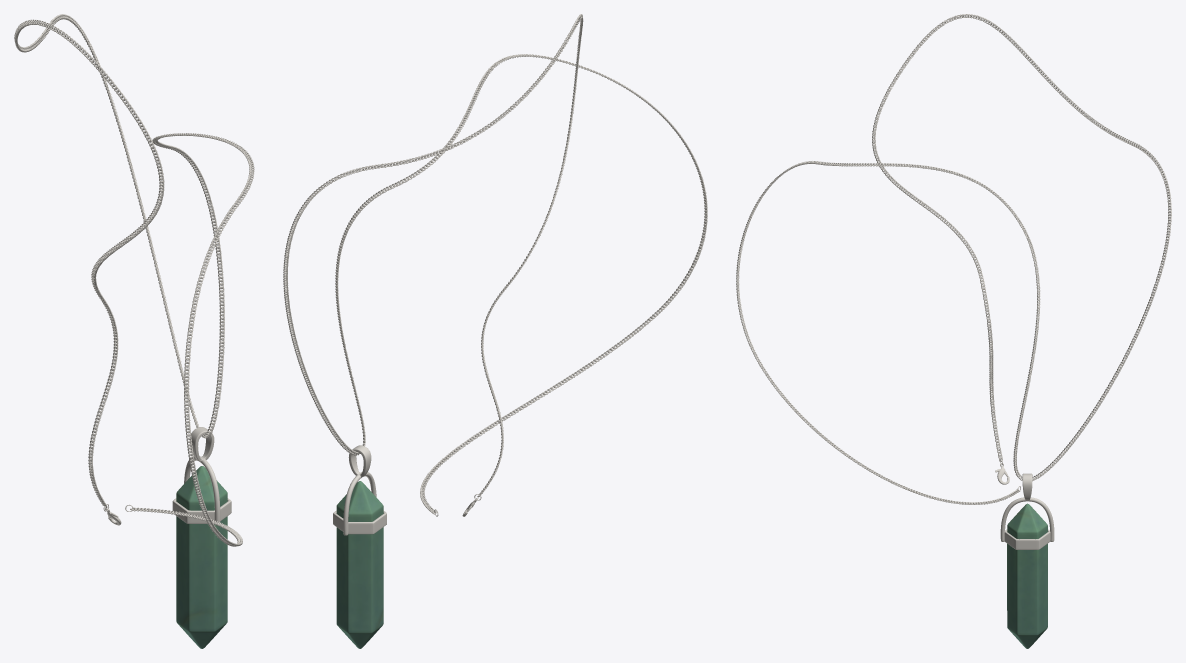
Rendered from necklace.glb.
3 views of the same model, side by side, from view 1: azimuth 30°, elevation 25°; view 2: azimuth 150°, elevation 25°; view 3: azimuth 270°, elevation 25° (orthographic). The views are drawn at different scales.
Parts seen in each view (by area): view 1: chain, crystal, setting; view 2: chain, crystal, setting; view 3: chain, crystal, setting.
Part boxes in pixels (left/top/right/bottom): chain: left=14, top=14, right=254, bottom=546; crystal: left=176, top=466, right=227, bottom=648; setting: left=172, top=427, right=231, bottom=525; chain: left=283, top=14, right=707, bottom=516; crystal: left=336, top=481, right=383, bottom=648; setting: left=333, top=445, right=386, bottom=535; chain: left=736, top=14, right=1171, bottom=504; crystal: left=1007, top=503, right=1047, bottom=648; setting: left=1000, top=473, right=1054, bottom=549.
Bounding box in the file's own units: 3.64 × 10.9 × 7.71.
2 materials, 1 textured.
